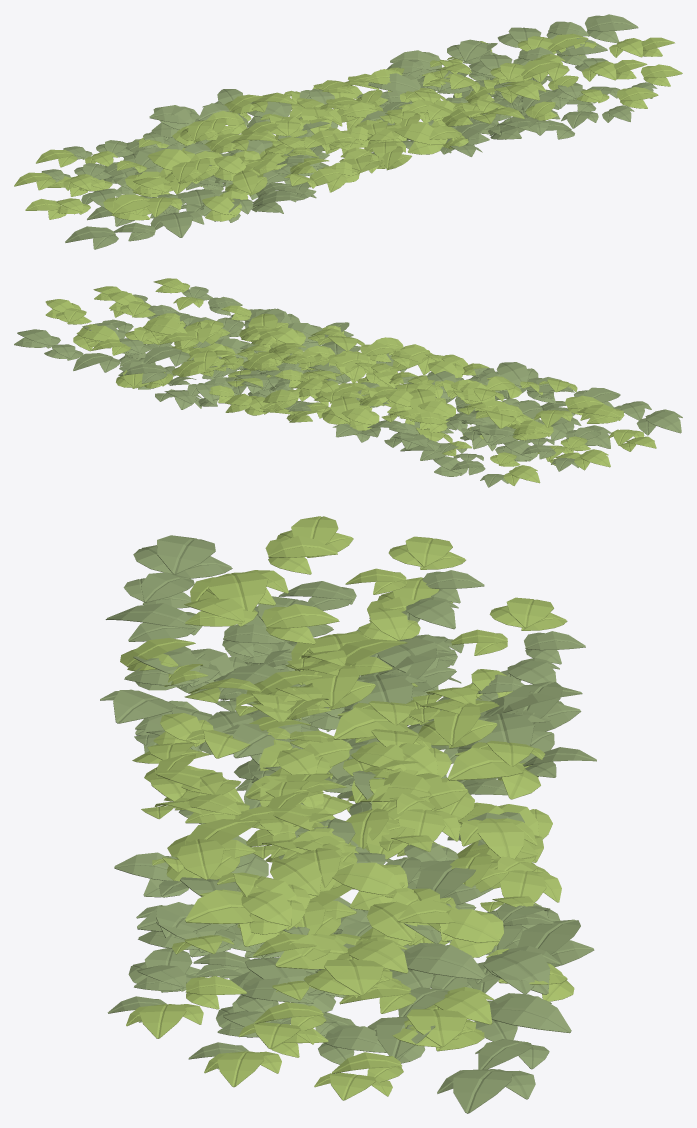
The model's file is dead_englishivy.fbx.
The picture shows the model from 3 angles, top to bottom: view 1: azimuth 30°, elevation 25°; view 2: azimuth 150°, elevation 25°; view 3: azimuth 270°, elevation 25°; orthographic projection. The views are drawn at different scales.
Parts seen in each view (by area): view 1: EnglishIvy_Dead; view 2: EnglishIvy_Dead; view 3: EnglishIvy_Dead.
Boxes of the visible parts, left/top/right/bottom form: EnglishIvy_Dead: left=14, top=14, right=682, bottom=249; EnglishIvy_Dead: left=14, top=278, right=682, bottom=487; EnglishIvy_Dead: left=100, top=516, right=596, bottom=1113.
Size of the model in its own units: 7.81 by 0.4561 by 2.78.
